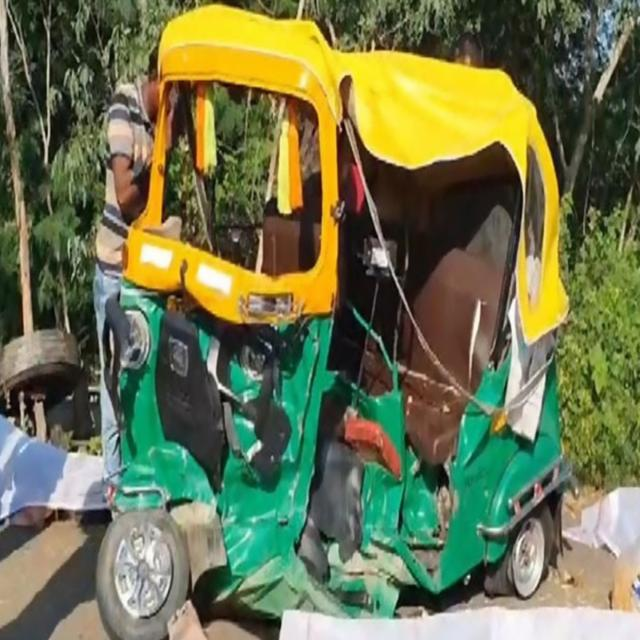accident: (96, 7, 571, 638)
